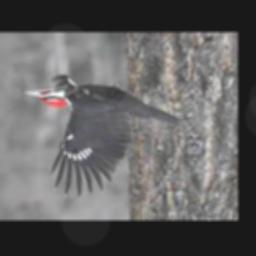Woodpecker: (20, 75, 183, 196)
